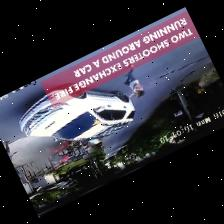person: (124, 64, 143, 97), (4, 141, 15, 160), (190, 82, 203, 93), (86, 138, 100, 143)
